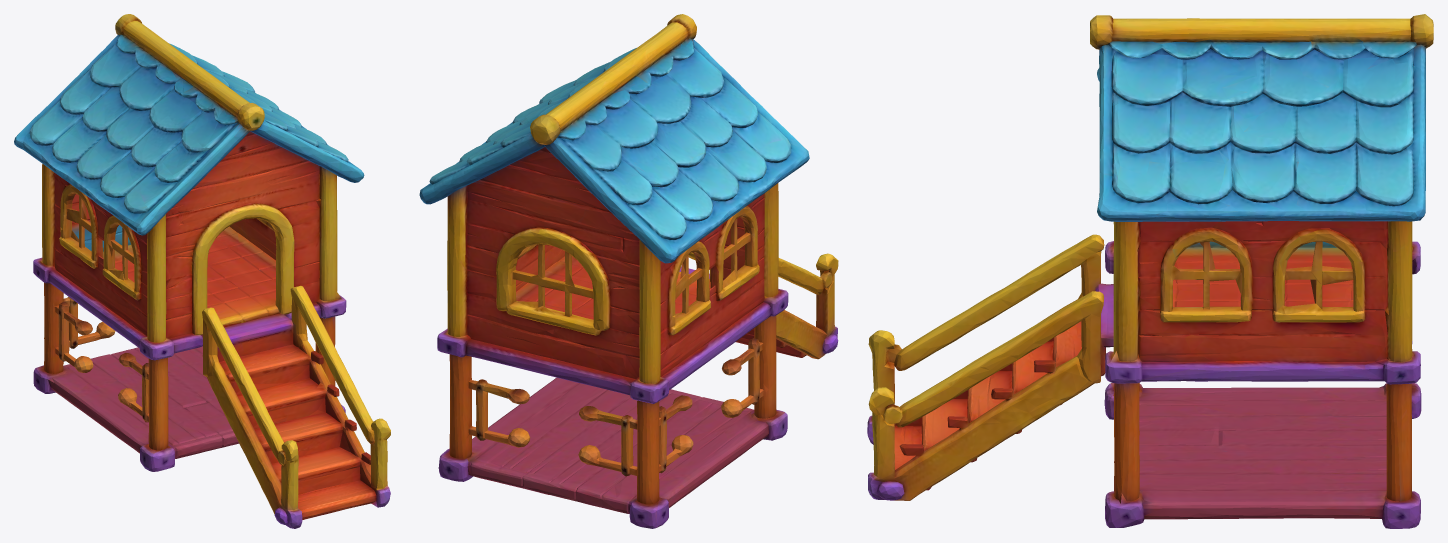
File: DOM_budka_2__toy.glb
3 views of the same model, side by side, from view 1: azimuth 30°, elevation 25°; view 2: azimuth 150°, elevation 25°; view 3: azimuth 270°, elevation 25° (orthographic). The views are drawn at different scales.
Visible parts, largest first — view 1: tripo_node_ac6729f5-73c2-4e4e-95e1-3ff5b1cdb705; view 2: tripo_node_ac6729f5-73c2-4e4e-95e1-3ff5b1cdb705; view 3: tripo_node_ac6729f5-73c2-4e4e-95e1-3ff5b1cdb705.
Part boxes in pixels (x1,y1,x2,y2): tripo_node_ac6729f5-73c2-4e4e-95e1-3ff5b1cdb705: (14, 14, 390, 528); tripo_node_ac6729f5-73c2-4e4e-95e1-3ff5b1cdb705: (419, 14, 838, 528); tripo_node_ac6729f5-73c2-4e4e-95e1-3ff5b1cdb705: (867, 14, 1433, 528).
Size of the model in its own units: 2.76 by 4 by 4.52.
1 material, 1 textured.
